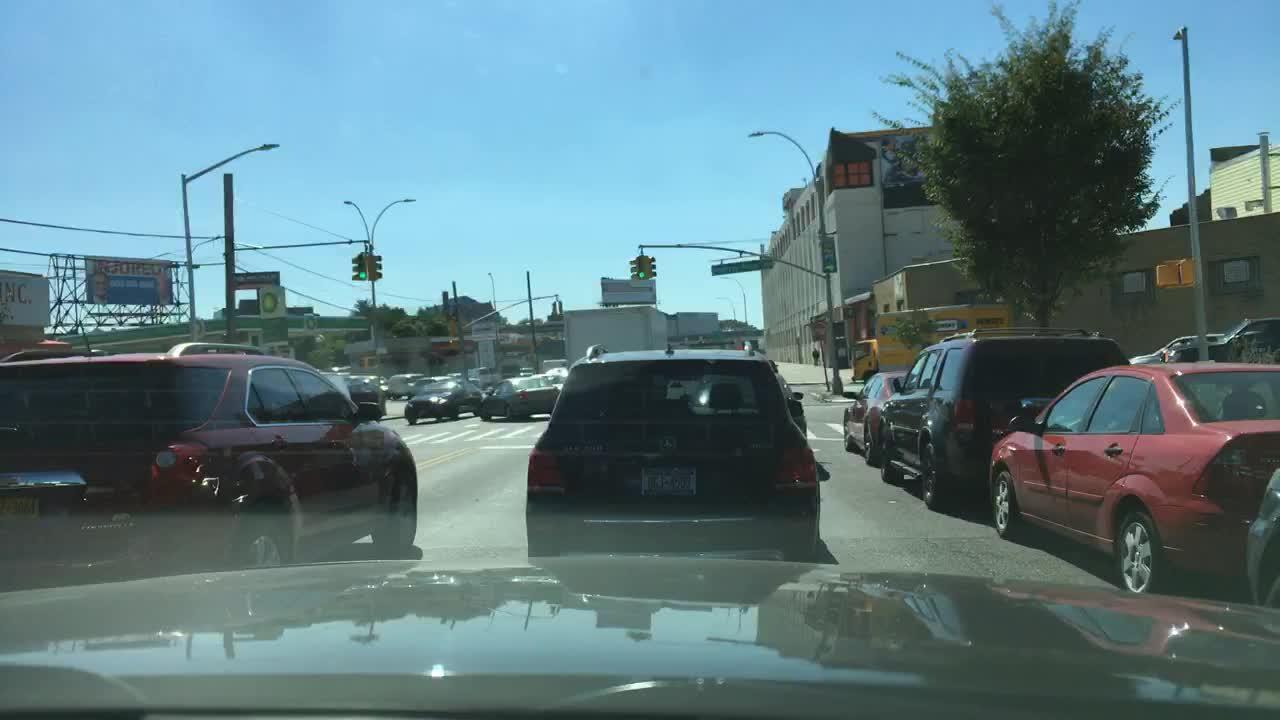Mercedes: (651, 427, 682, 461)
